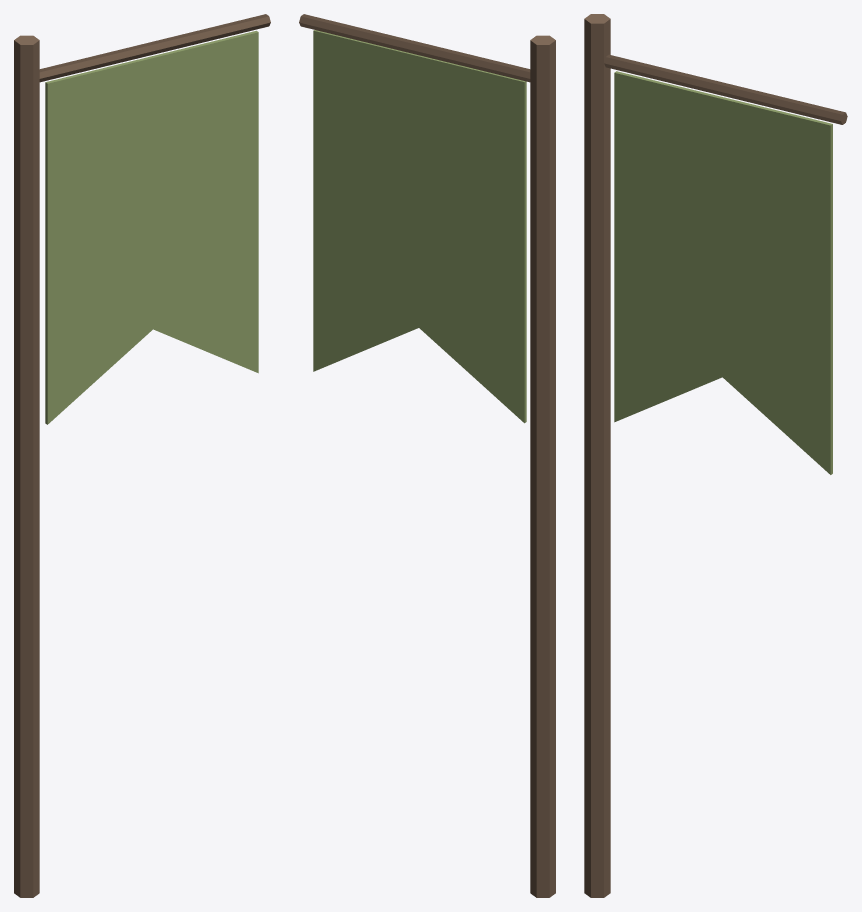
The model's file is PlaidBanner.fbx.
3 views of the same model, side by side, from view 1: azimuth 30°, elevation 25°; view 2: azimuth 150°, elevation 25°; view 3: azimuth 330°, elevation 25° (orthographic). The views are drawn at different scales.
Visible parts, largest first — view 1: Prop_PlaidBanner; view 2: Prop_PlaidBanner; view 3: Prop_PlaidBanner.
Part boxes in pixels (box(x1,y1,x2,y2)): Prop_PlaidBanner: box(14, 14, 270, 897); Prop_PlaidBanner: box(299, 14, 555, 897); Prop_PlaidBanner: box(584, 14, 847, 897).
Size of the model in its own units: 0.676 by 2.2 by 0.06.
